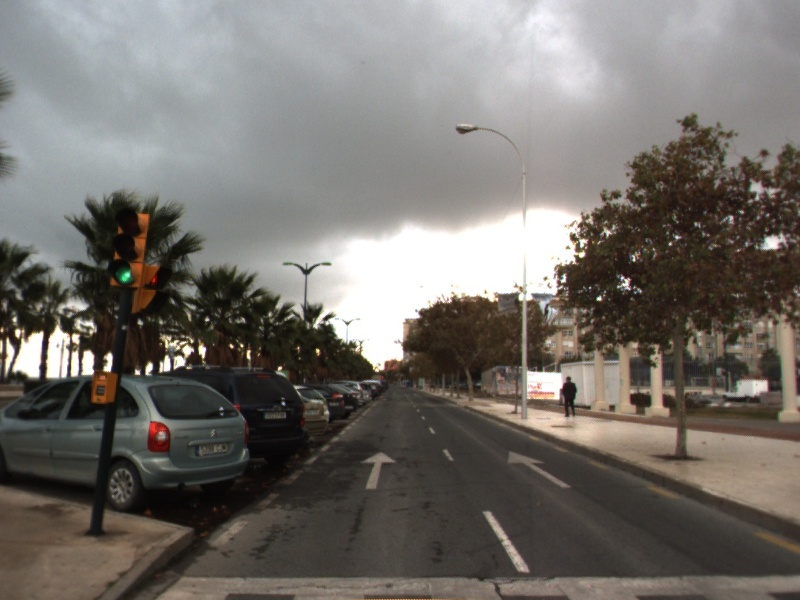STRAIGHT: (506, 449, 573, 489), (359, 450, 398, 491)
